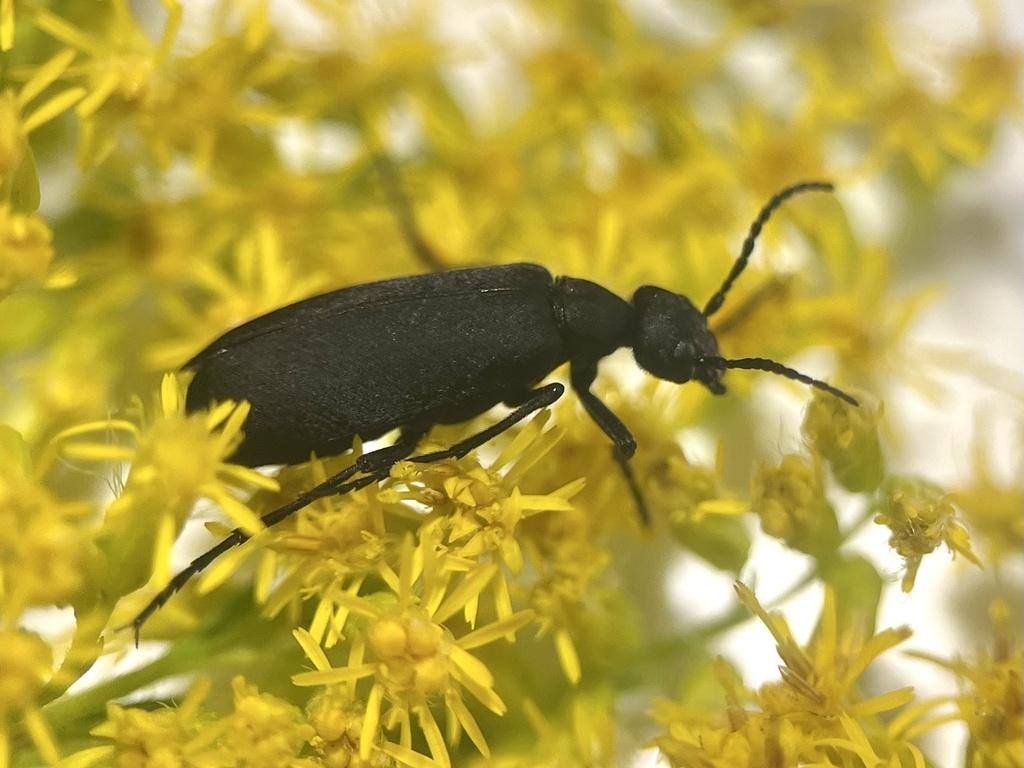blister_beetle: (0, 107, 967, 691)
